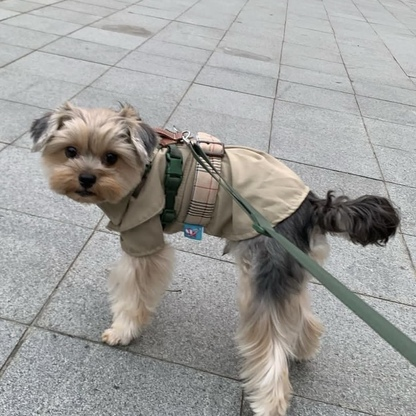yorkshire: (28, 98, 157, 206)
